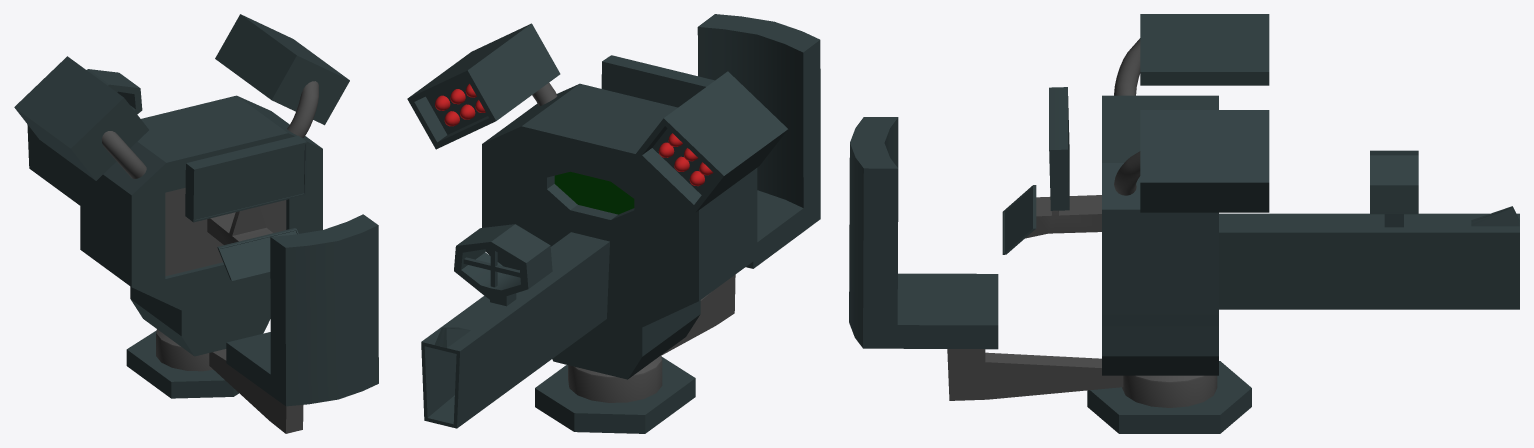
The model's file is Pew.fbx.
3 renders of one model, left to right at view 1: azimuth 30°, elevation 25°; view 2: azimuth 150°, elevation 25°; view 3: azimuth 270°, elevation 25°, orthographic. The views are drawn at different scales.
Parts seen in each view (by area): view 1: Cube.003, Cube.001; view 2: Cube.003, Cube.001; view 3: Cube.003, Cube.001.
Part boxes in pixels (box(x1,y1,x2,y2)): Cube.003: box(14, 14, 378, 433); Cube.001: box(126, 330, 238, 398); Cube.003: box(407, 14, 820, 428); Cube.001: box(535, 357, 695, 433); Cube.003: box(849, 14, 1519, 407); Cube.001: box(1087, 361, 1251, 433).
Bounding box in the file's own units: 150 × 156 × 274.
